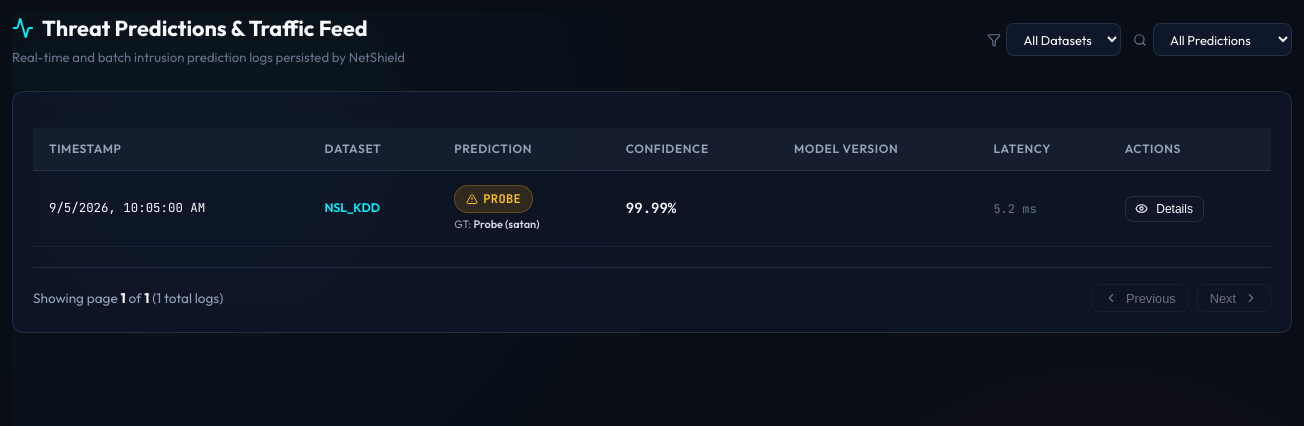
Test: PHASE 20.2: Predictions Feed Classification & Threat Visibility Integrity › Part E & F: ThreatsPage Dataset Isolation & Prediction vs Ground Truth › E & F. Feed renders ML prediction, handles ground truth distinction, and filters by dataset
Expected: the text "Probe (satan)" is shown, 473,217 -> 540,231
# Switch dataset to cicids2017
Select "CICIDS2017" in the 1st dropdown showing "All Datasets" at (1064, 40), box 1006,23 -> 1121,56
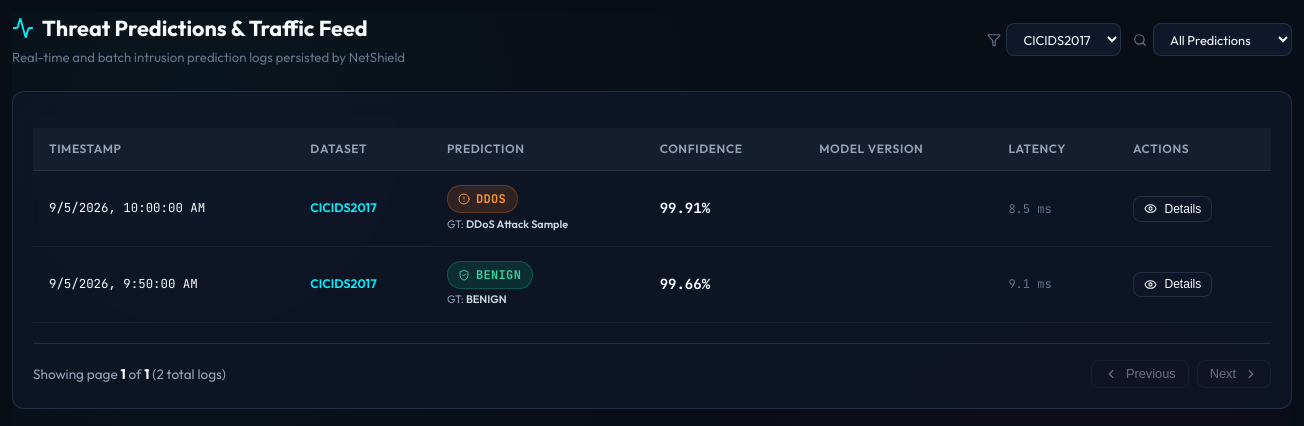
Now the text "DDoS Attack Sample" is shown, box 466,217 -> 568,231
Now the text "BENIGN" is shown, box 447,261 -> 533,289
